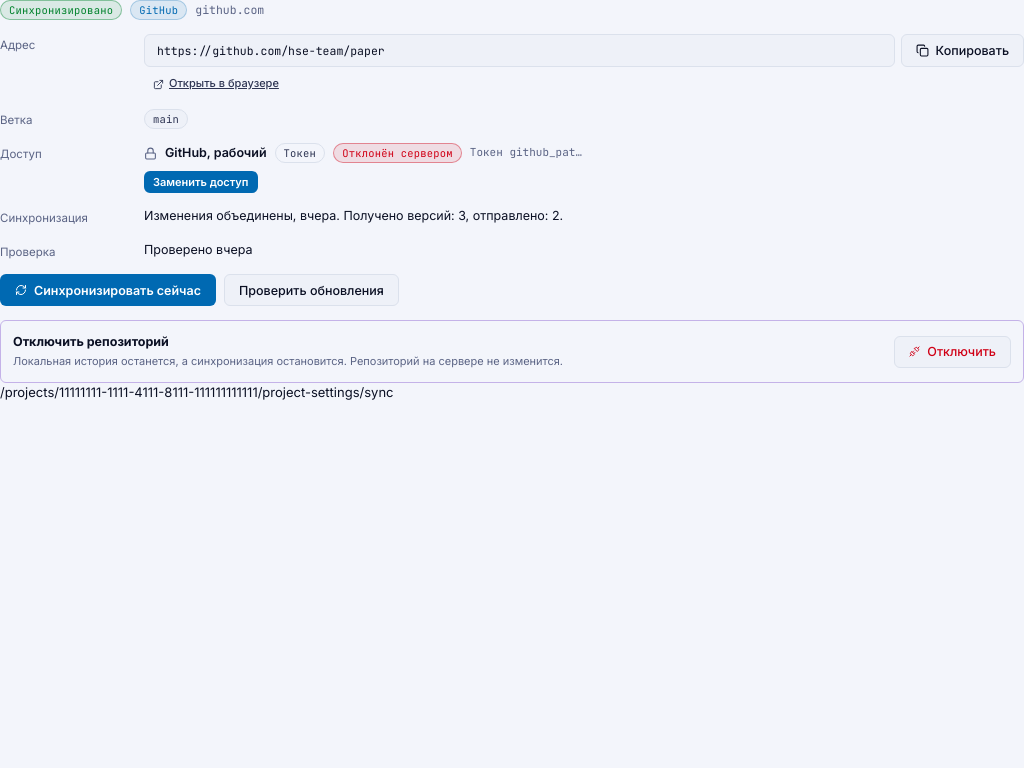
it: отключение репозитория из карточки › кнопка в опасной зоне открывает окно подтверждения
Click the button "Отключить": (953, 352) [894,336,1011,368]
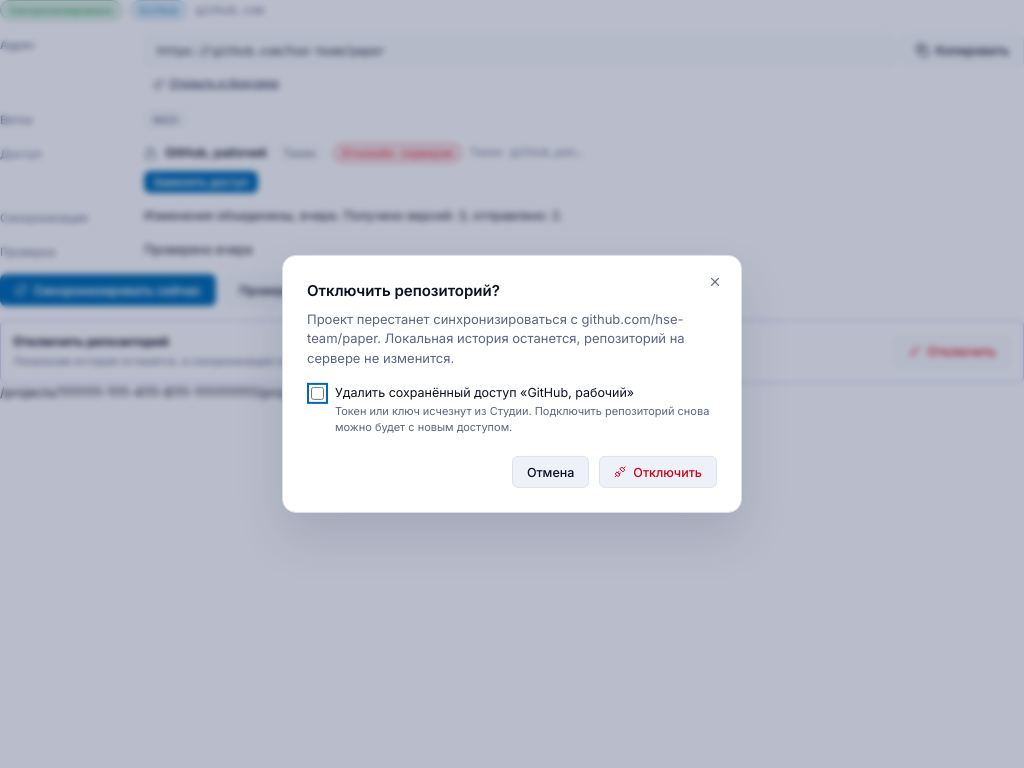
Expected: the dialog "Отключить репозиторий?" is shown, [282,255,742,513]
